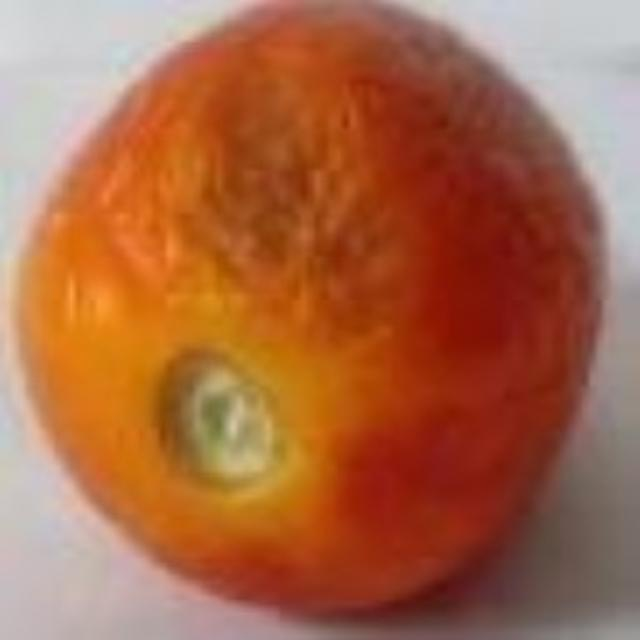defect: (22, 8, 608, 625)
